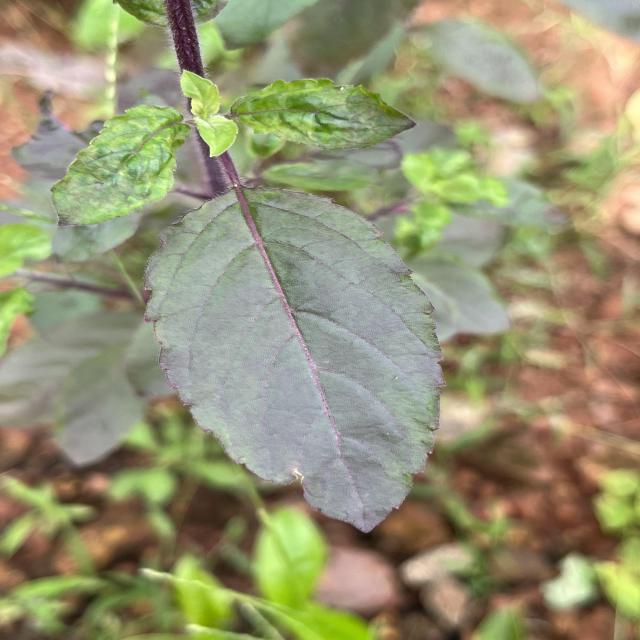Ocimum tenuiflorum: (137, 180, 450, 538)
